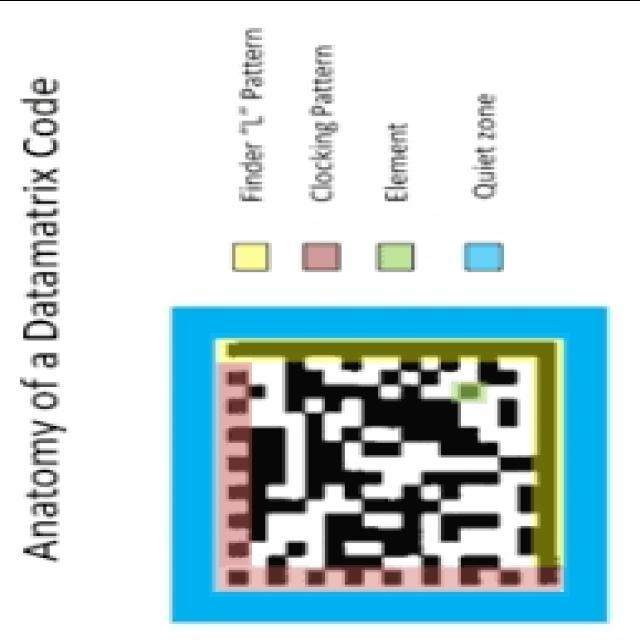Data-Matrix: (209, 332, 570, 596)
